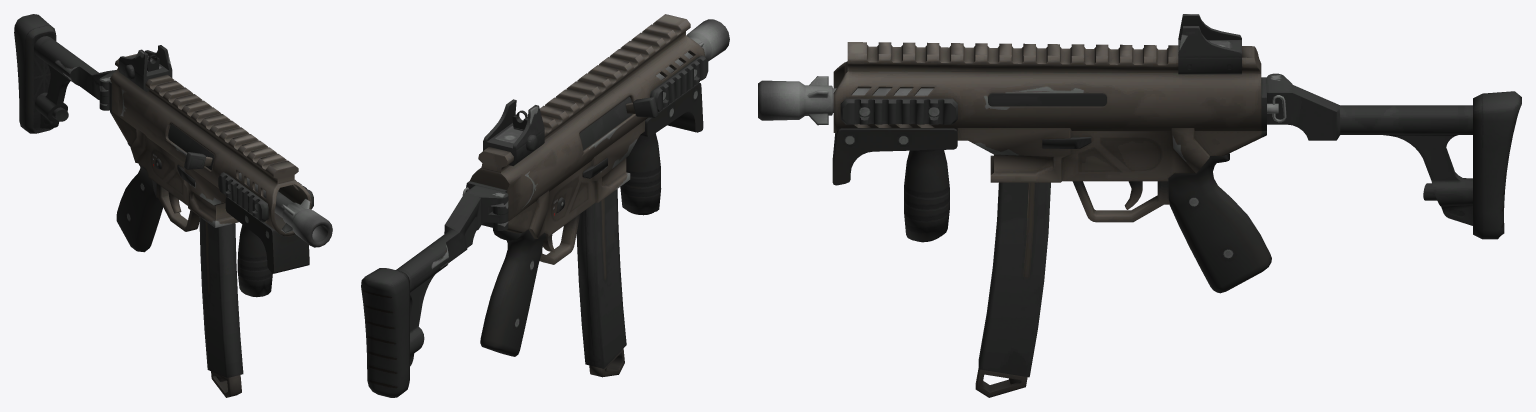
Rendered from smg.glb.
3 views of the same model, side by side, from view 1: azimuth 30°, elevation 25°; view 2: azimuth 150°, elevation 25°; view 3: azimuth 270°, elevation 25° (orthographic). The views are drawn at different scales.
Visible parts, largest first — view 1: Core_SMG_Rifle_LOD0; view 2: Core_SMG_Rifle_LOD0; view 3: Core_SMG_Rifle_LOD0.
Boxes of the visible parts, x1,y1,x2,y2 form: Core_SMG_Rifle_LOD0: [14, 14, 332, 397]; Core_SMG_Rifle_LOD0: [361, 14, 729, 397]; Core_SMG_Rifle_LOD0: [758, 14, 1521, 397].
Bounding box in the file's own units: 0.0824 × 0.3346 × 0.62.
1 material, 1 textured.
